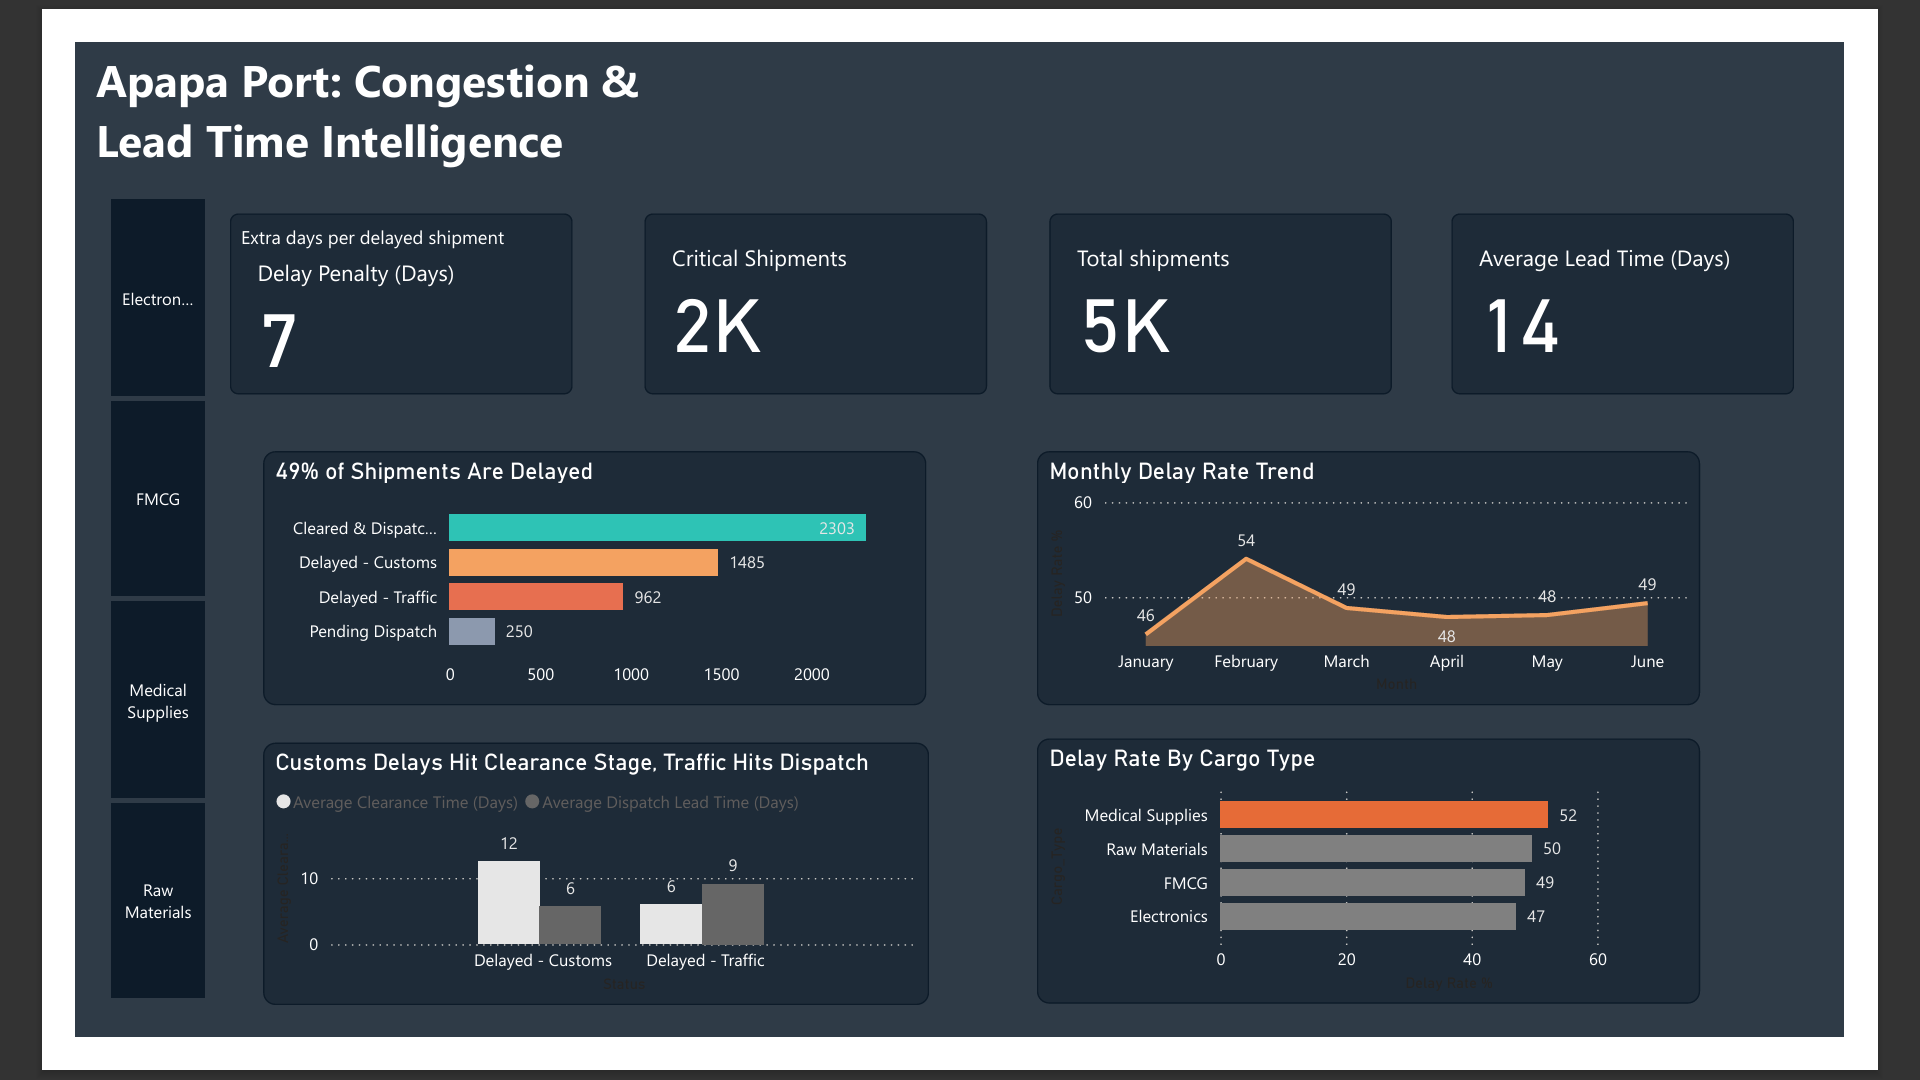

The page's visual inventory and layout, read from the dashboard file:
{"tool":"powerbi","page":{"name":"Port performance Dashboard","canvas":[1280,720],"ordinal":0},"visuals":[{"type":"textbox","box":[9.8,0,452.7,165.9],"z":0},{"type":"slicer","fields":{"Values":["port_data.Cargo_Type"]},"box":[0,106.8,118.1,592.1],"z":1000},{"type":"lineChart","title":"Monthly Delay Rate Trend","fields":{"Category":["port_data.Vessel_Arrival.Variation.Date Hierarchy.Month"],"Y":["port_data.Delay Rate %"]},"box":[696,296,480,184],"z":2000},{"type":"barChart","title":"49% of Shipments Are Delayed","fields":{"Category":["port_data.Status"],"Y":["port_data.Total shipments"]},"box":[136,296,480,184],"z":3000},{"type":"clusteredBarChart","title":"Delay Rate By Cargo Type","fields":{"Category":["port_data.Cargo_Type"],"Y":["port_data.Delay Rate %"]},"box":[696,504,480,192],"z":4000},{"type":"clusteredColumnChart","title":"Customs Delays Hit Clearance Stage, Traffic Hits Dispatch","fields":{"Category":["port_data.Status"],"Y":["port_data.Average Clearance Time (Days)","port_data.Average Dispatch Lead Time (Days)"]},"box":[135.8,507,482,189.6],"z":5000},{"type":"group","id":"g1","title":"Group 3","box":[996.2,124,247.2,131.1],"z":6000},{"type":"cardVisual","fields":{"Data":["port_data.Delay Penalty (Days)"]},"box":[112,124,247.5,131],"z":7000,"group":"g4"},{"type":"group","id":"g2","title":"Group 3","box":[412.1,124,248.6,131.1],"z":7000},{"type":"cardVisual","fields":{"Data":["port_data.Critical Shipments"]},"box":[412.1,124,247.5,131],"z":7000,"group":"g2"},{"type":"cardVisual","fields":{"Data":["port_data.Total shipments"]},"box":[704.9,124,247.5,131],"z":7000,"group":"g3"},{"type":"cardVisual","fields":{"Data":["port_data.Average Lead Time (Days)"]},"box":[996.2,124,247.5,131],"z":7000,"group":"g1"},{"type":"group","id":"g3","title":"Group 3","box":[704.9,124,247.2,131.1],"z":8000},{"type":"group","id":"g4","title":"Group 3","box":[112,124,256,128],"z":9000}]}

Visuals, with their boxes in screenshot pixels (x1, y1, x2, y2), scaled from the page's 1280x720 canvas onto the 1920x1080 screenshot:
textbox: 15/0/694/249
slicer - port_data.Cargo_Type: 0/160/177/1048
"Monthly Delay Rate Trend" lineChart: 1044/444/1764/720
"49% of Shipments Are Delayed" barChart: 204/444/924/720
"Delay Rate By Cargo Type" clusteredBarChart: 1044/756/1764/1044
"Customs Delays Hit Clearance Stage, Traffic Hits Dispatch" clusteredColumnChart: 204/760/927/1045
"Group 3" group: 1494/186/1865/383
cardVisual - port_data.Delay Penalty (Days): 168/186/539/382
"Group 3" group: 618/186/991/383
cardVisual - port_data.Critical Shipments: 618/186/989/382
cardVisual - port_data.Total shipments: 1057/186/1429/382
cardVisual - port_data.Average Lead Time (Days): 1494/186/1866/382
"Group 3" group: 1057/186/1428/383
"Group 3" group: 168/186/552/378
